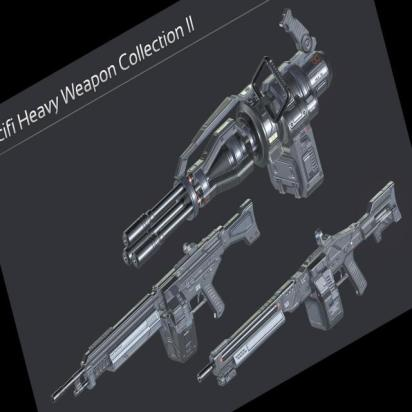Gun: (65, 196, 285, 397), (221, 186, 412, 369)
